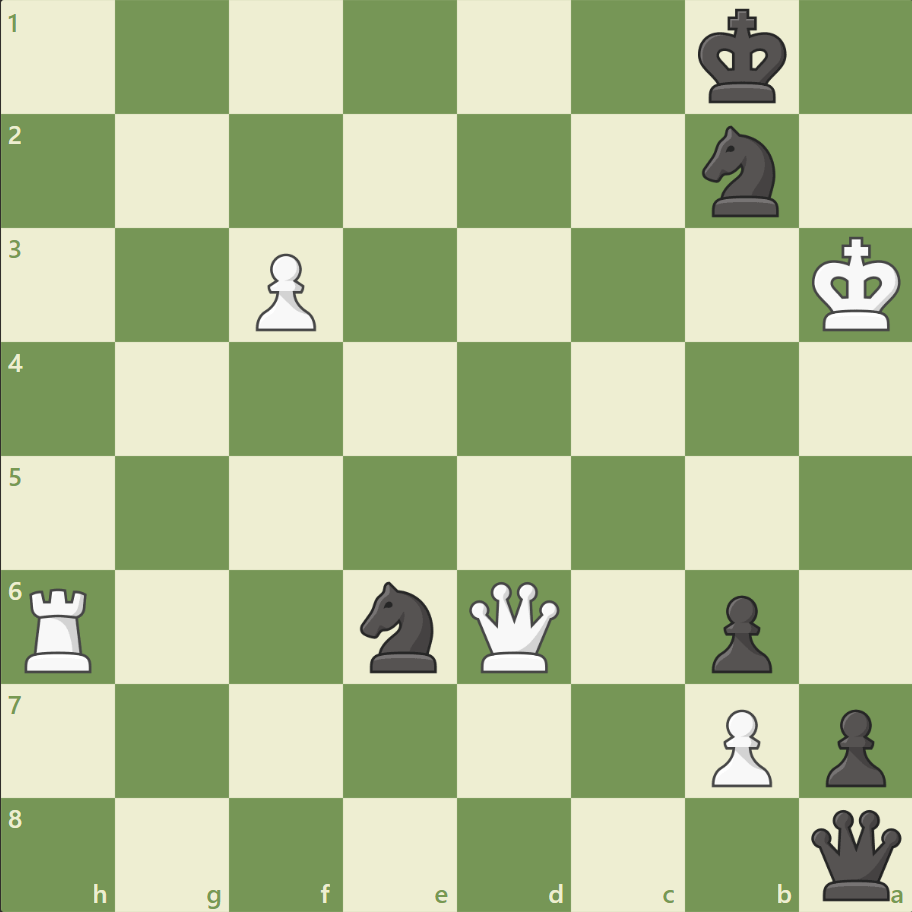K: (806, 231, 906, 339)
P: (701, 700, 776, 791), (247, 246, 322, 337)
Q: (464, 576, 563, 676)
R: (19, 579, 102, 676)
k: (692, 4, 792, 112)
n: (351, 575, 449, 677), (692, 121, 789, 223)
p: (701, 586, 776, 677), (815, 700, 889, 791)
q: (805, 804, 904, 903)
